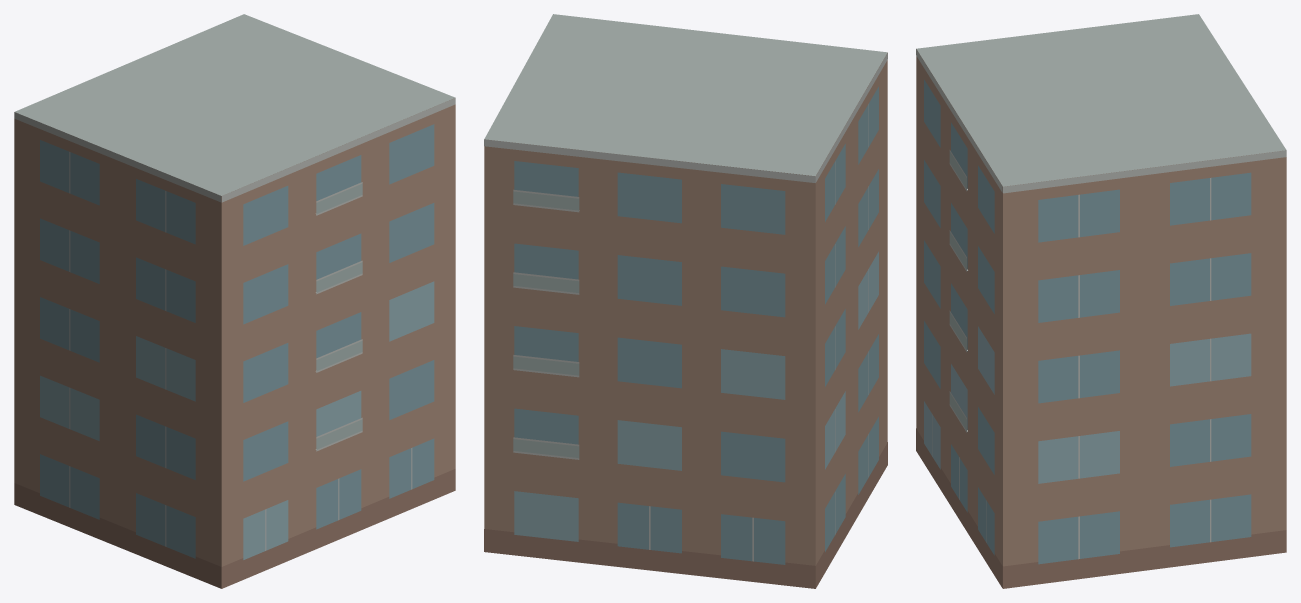
The model's file is survey-upis-32913385.glb.
3 views of the same model, side by side, from view 1: azimuth 30°, elevation 25°; view 2: azimuth 150°, elevation 25°; view 3: azimuth 270°, elevation 25° (orthographic). The views are drawn at different scales.
Visible parts, largest first — view 1: survey-upis-32913385.tmp; view 2: survey-upis-32913385.tmp; view 3: survey-upis-32913385.tmp.
Part boxes in pixels (bbox=[...]): survey-upis-32913385.tmp: bbox=[14, 14, 455, 588]; survey-upis-32913385.tmp: bbox=[484, 14, 887, 588]; survey-upis-32913385.tmp: bbox=[916, 14, 1286, 588].
Size of the model in its own units: 13.27 by 14.4 by 12.03.
